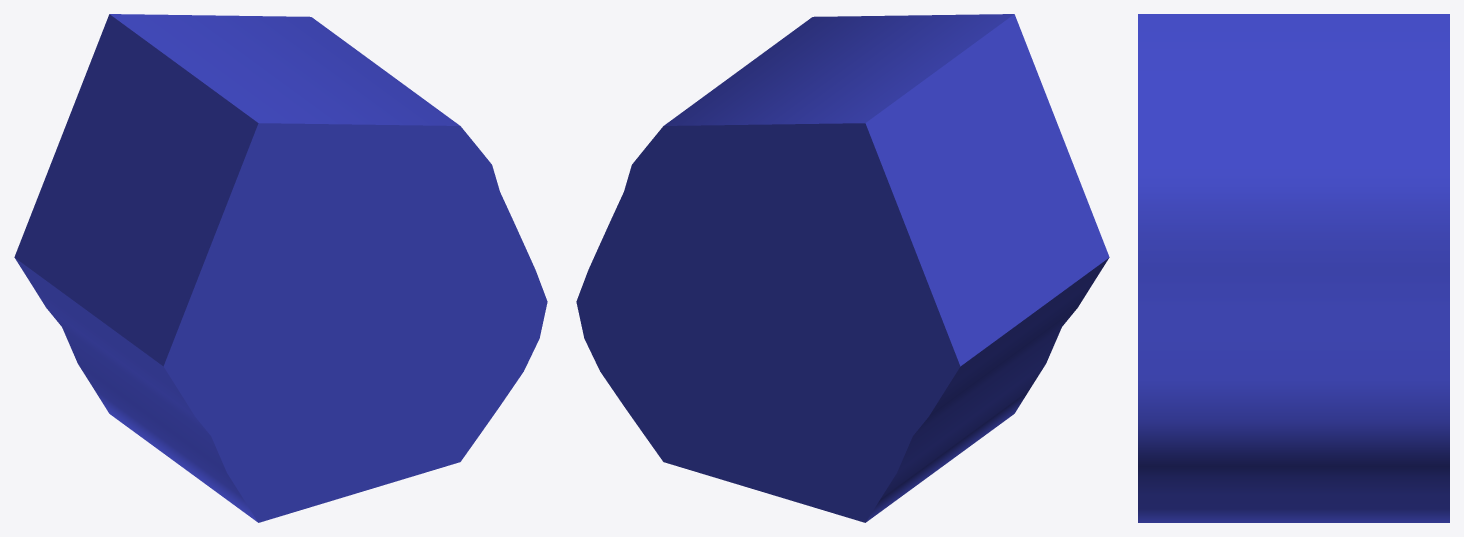
The model's file is coal5.fbx.
3 views of the same model, side by side, from view 1: azimuth 30°, elevation 25°; view 2: azimuth 150°, elevation 25°; view 3: azimuth 270°, elevation 25° (orthographic). The views are drawn at different scales.
Parts seen in each view (by area): view 1: root; view 2: root; view 3: root.
Part boxes in pixels (x1,y1,x2,y2): root: (14,14,547,522); root: (576,14,1109,522); root: (1138,14,1449,522).
Bounding box in the file's own units: 0.0344 × 0.0343 × 0.0232.
